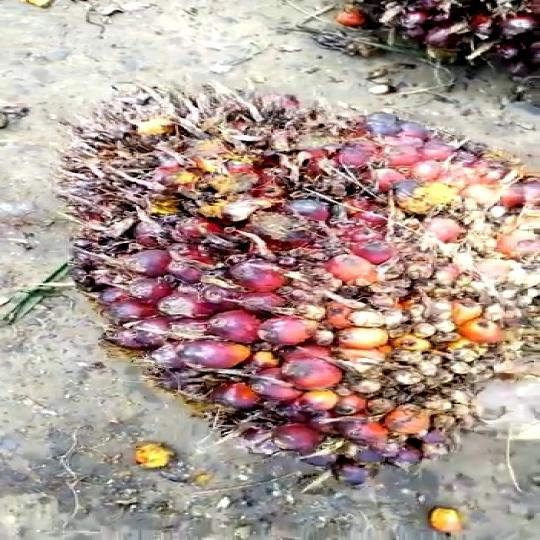masak: (59, 80, 540, 475)
